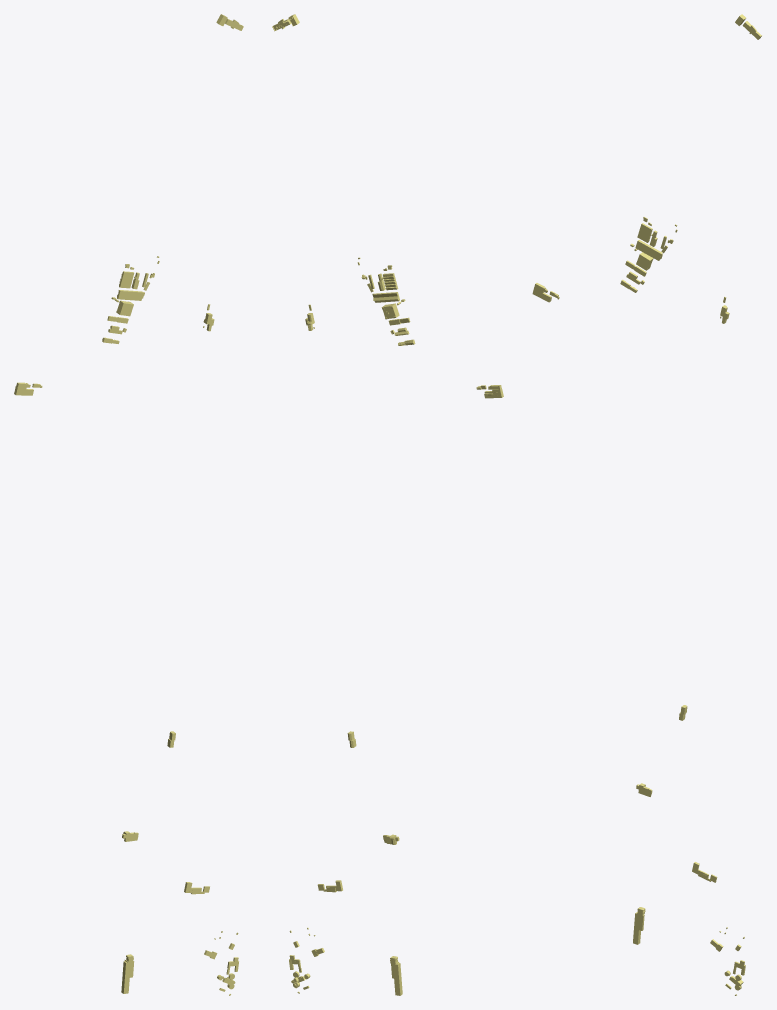
File: buildingsGold.fbx
3 views of the same model, side by side, from view 1: azimuth 30°, elevation 25°; view 2: azimuth 150°, elevation 25°; view 3: azimuth 330°, elevation 25° (orthographic).
Visible parts, largest first — view 1: gold2:Analysis_ROMANOgelb; view 2: gold2:Analysis_ROMANOgelb; view 3: gold2:Analysis_ROMANOgelb.
Part boxes in pixels (box(x1,y1,x2,y2)): gold2:Analysis_ROMANOgelb: box(14, 14, 243, 995); gold2:Analysis_ROMANOgelb: box(272, 14, 503, 995); gold2:Analysis_ROMANOgelb: box(532, 14, 762, 995).
Size of the model in its own units: 704 by 52.66 by 2878.
